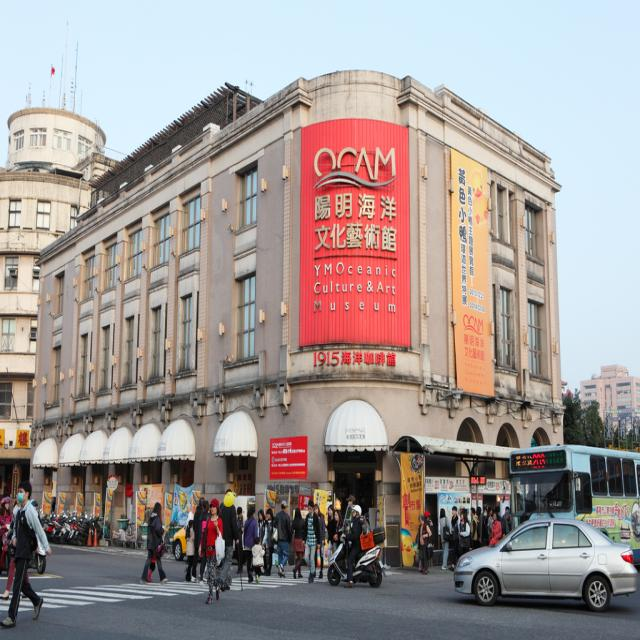car: (453, 515, 637, 612)
